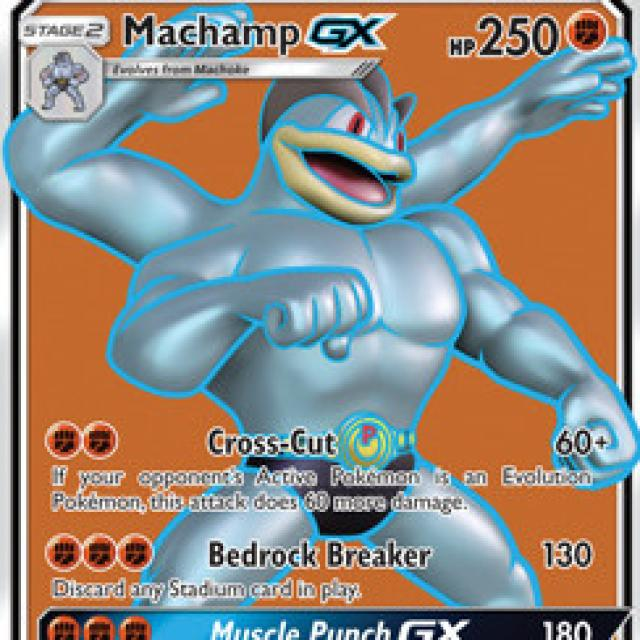Machamp: (94, 46, 640, 413)
